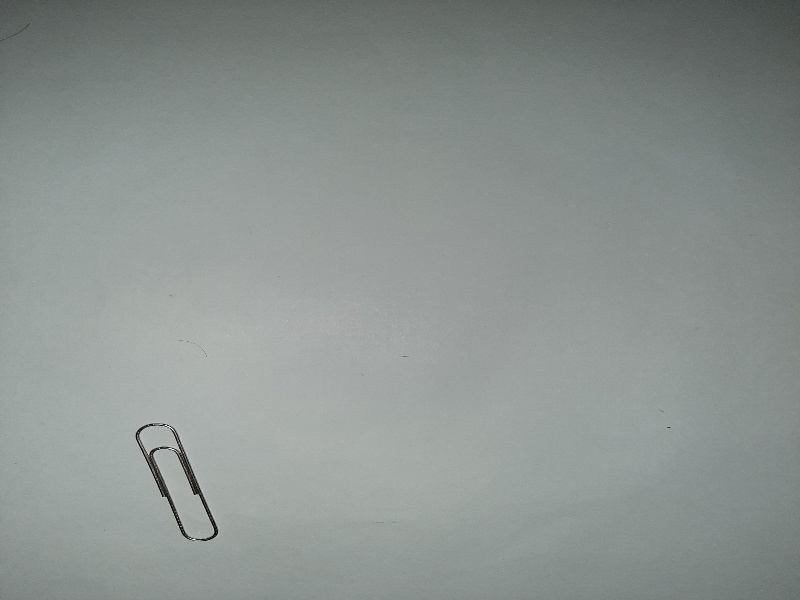Big Jumpclip: (127, 417, 229, 547)
Connector: (128, 416, 224, 546)
